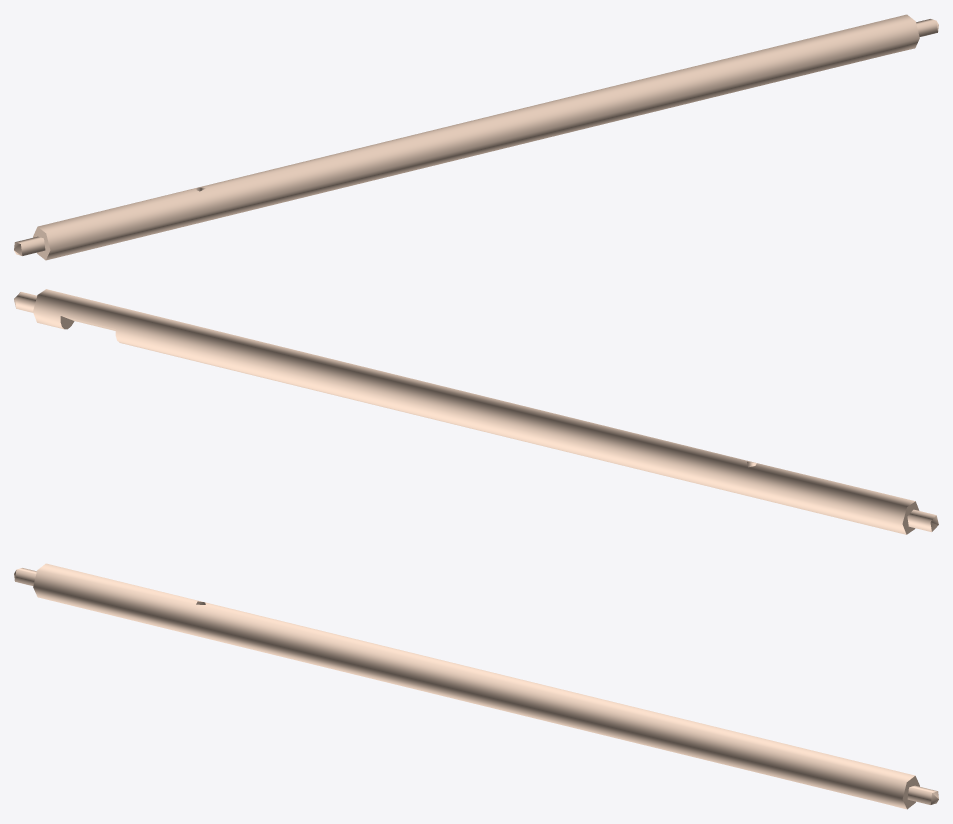
The model's file is Tige horizontale - axe_Quarts - H.obj.
The picture shows the model from 3 angles, top to bottom: view 1: azimuth 30°, elevation 25°; view 2: azimuth 150°, elevation 25°; view 3: azimuth 330°, elevation 25°; orthographic projection.
Visible parts, largest first — view 1: Face_6; view 2: Face_6; view 3: Face_6.
Part boxes in pixels (x1,y1,x2,y2): Face_6: (38,14,919,260); Face_6: (33,289,915,534); Face_6: (33,563,914,809).
Bounding box in the file's own units: 0.1681 × 0.00549 × 0.0055.
